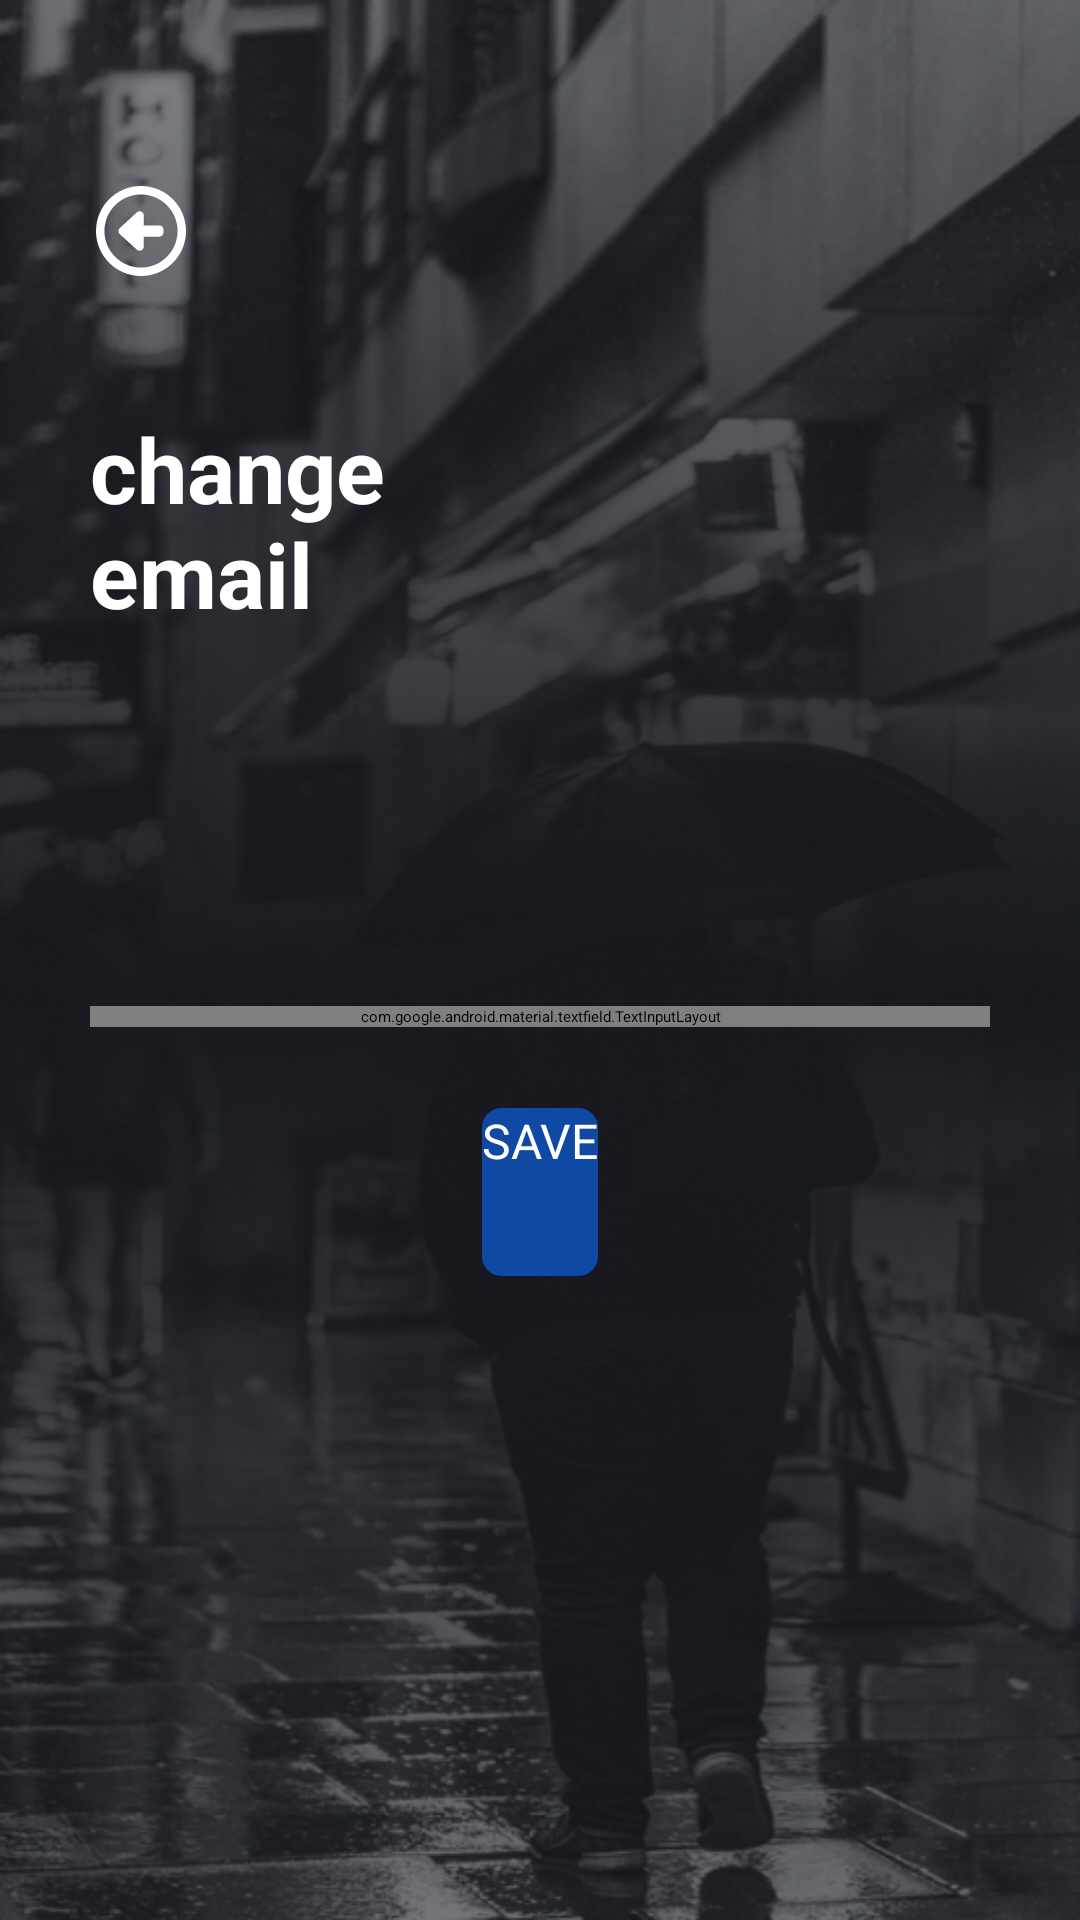

Screen size 1080 × 1920. Icon name, then its center in pixels as (x,y):
back: (141,231)
